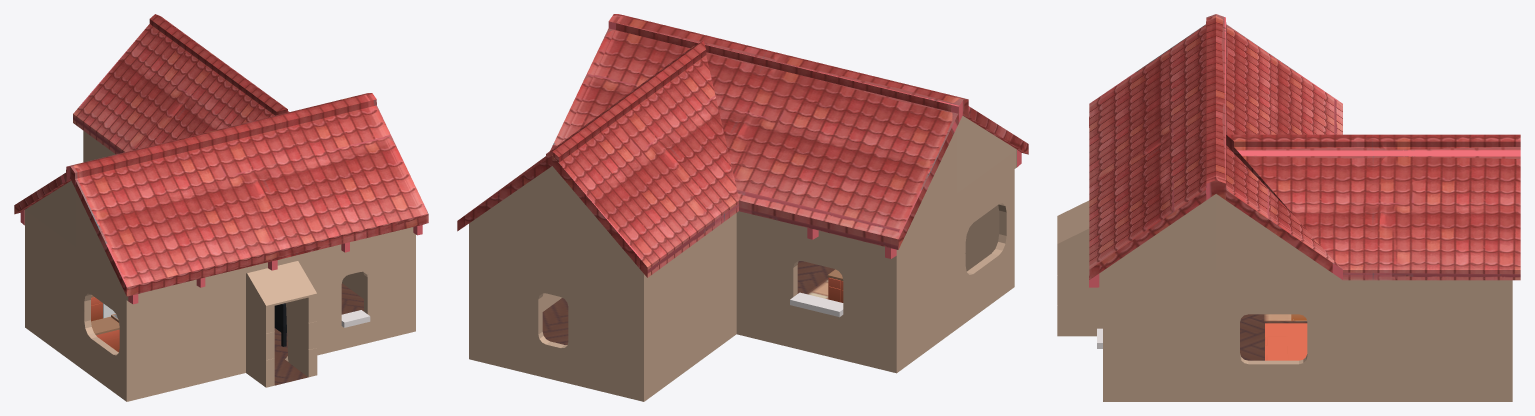
File: testsmall.glb
3 views of the same model, side by side, from view 1: azimuth 30°, elevation 25°; view 2: azimuth 150°, elevation 25°; view 3: azimuth 270°, elevation 25° (orthographic). The views are drawn at different scales.
Visible parts, largest first — view 1: Plane, small counter.001, Cube.003; view 2: Plane; view 3: Plane, livingtable.001.
Part boxes in pixels (<box>): Plane: <box>14,14,428,401</box>; small counter.001: <box>91,316,119,352</box>; Cube.003: <box>274,303,286,346</box>; Plane: <box>457,14,1028,401</box>; Plane: <box>1057,14,1520,401</box>; livingtable.001: <box>1265,323,1307,360</box>.
Bounding box in the file's own units: 7.25 × 4.59 × 8.55.
Materials: 12 (10 with a texture image).
